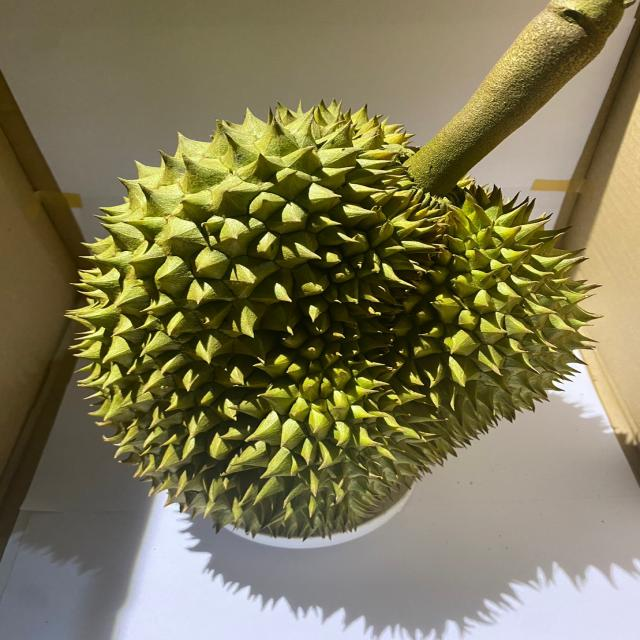immature: (59, 94, 597, 536)
